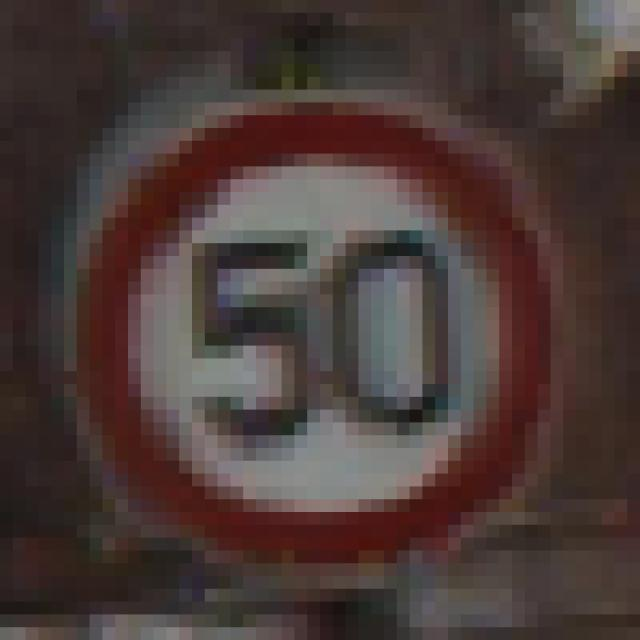Limite-50: (55, 84, 566, 589)
